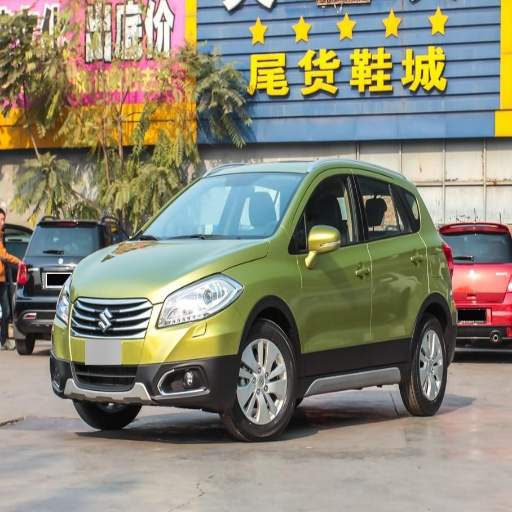back_left_door: (356, 167, 427, 364)
front_bumper: (54, 280, 246, 411)
front_glass: (138, 176, 305, 239)
front_left_door: (294, 168, 370, 373)
